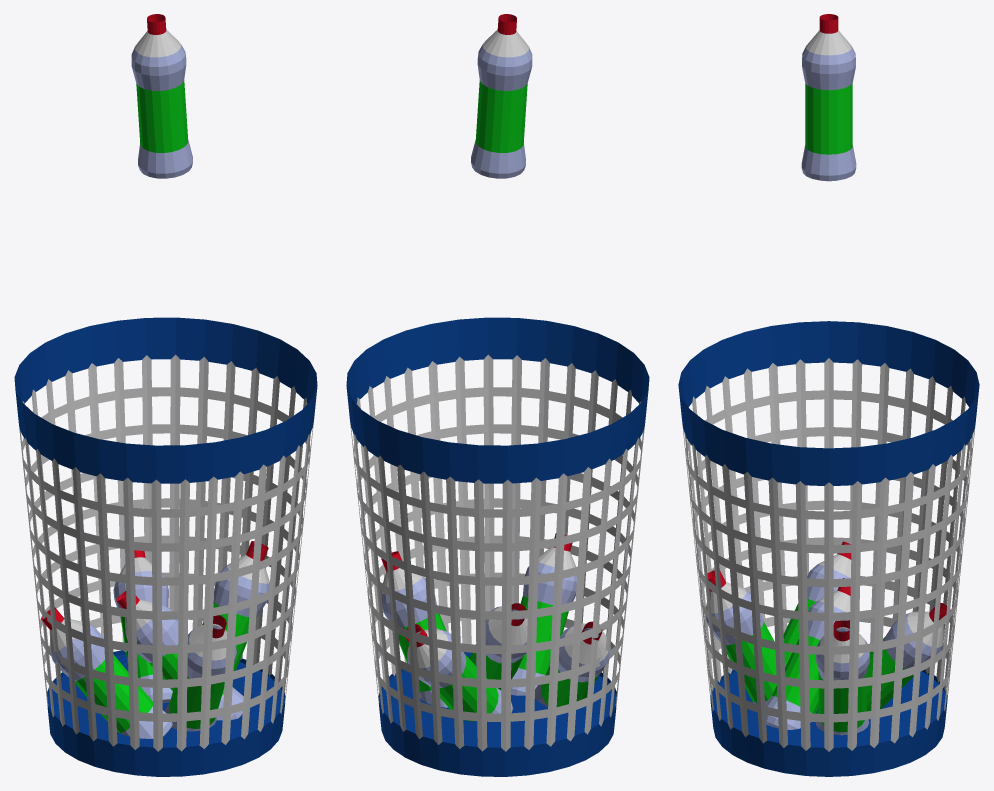
File: DustbinWithCan_000008.obj
The picture shows the model from 3 angles, left to right: view 1: azimuth 30°, elevation 25°; view 2: azimuth 150°, elevation 25°; view 3: azimuth 270°, elevation 25°; orthographic projection.
Parts seen in each view (by area): view 1: Cylinder, Plane.006, Plane.005, Plane.001, Plane.004, Plane.003, Plane.002; view 2: Cylinder, Plane.006, Plane.001, Plane.002, Plane.005, Plane.003, Plane.004; view 3: Cylinder, Plane.006, Plane.001, Plane.003, Plane.004, Plane.002, Plane.005.
Boxes of the visible parts, left/top/right/bottom form: Cylinder: left=14, top=317, right=317, bottom=776; Plane.006: left=131, top=14, right=192, bottom=178; Plane.005: left=41, top=607, right=172, bottom=738; Plane.001: left=164, top=615, right=236, bottom=731; Plane.004: left=116, top=591, right=243, bottom=720; Plane.003: left=202, top=541, right=269, bottom=671; Plane.002: left=113, top=550, right=172, bottom=702; Cylinder: left=346, top=317, right=649, bottom=776; Plane.006: left=471, top=14, right=532, bottom=178; Plane.001: left=500, top=533, right=577, bottom=695; Plane.002: left=405, top=624, right=513, bottom=721; Plane.005: left=535, top=621, right=611, bottom=706; Plane.003: left=381, top=551, right=447, bottom=707; Plane.004: left=469, top=603, right=527, bottom=689; Cylinder: left=678, top=321, right=979, bottom=776; Plane.006: left=801, top=14, right=856, bottom=181; Plane.001: left=705, top=570, right=786, bottom=704; Plane.003: left=815, top=620, right=870, bottom=735; Plane.004: left=765, top=578, right=850, bottom=729; Plane.002: left=866, top=603, right=951, bottom=711; Plane.005: left=783, top=541, right=851, bottom=663.
Size of the model in its own units: 2.6 by 6.74 by 2.6.
